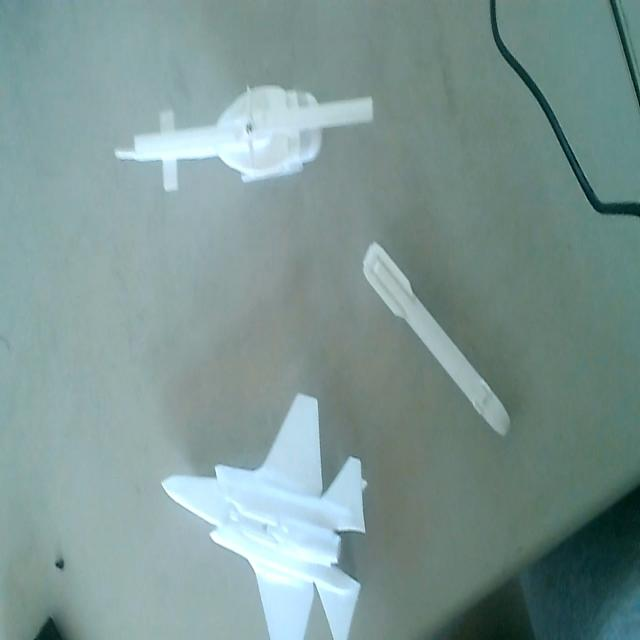Helicopter: (116, 81, 375, 200)
Jet: (160, 390, 366, 640)
Rocket: (359, 237, 512, 441)
